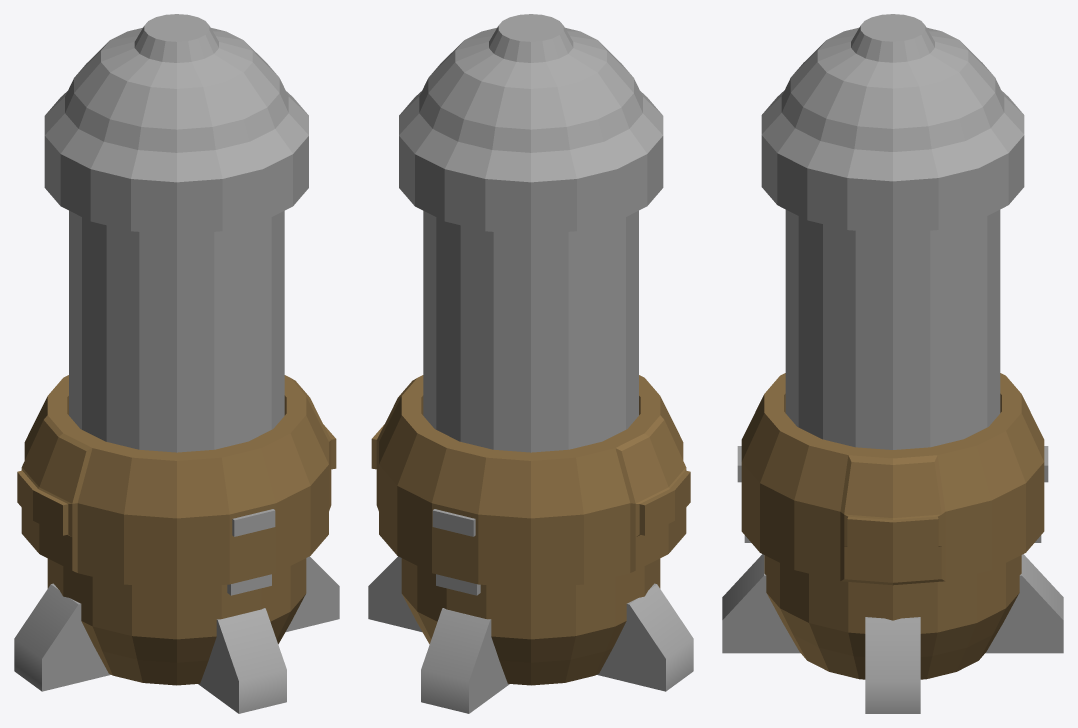
Rendered from pot3.fbx.
3 renders of one model, left to right at view 1: azimuth 30°, elevation 25°; view 2: azimuth 150°, elevation 25°; view 3: azimuth 270°, elevation 25°, orthographic.
Visible parts, largest first — view 1: polySurface7, polySurface4, polySurface5, polySurface12, polySurface8, polySurface10; view 2: polySurface7, polySurface4, polySurface5, polySurface12, polySurface9, polySurface11; view 3: polySurface7, polySurface4, polySurface5, polySurface12.
Part boxes in pixels (x1,y1,x2,y2): polySurface7: [17, 375, 336, 685]; polySurface4: [69, 210, 284, 452]; polySurface5: [44, 14, 308, 234]; polySurface12: [14, 556, 339, 713]; polySurface8: [232, 509, 275, 536]; polySurface10: [227, 574, 271, 595]; polySurface7: [371, 375, 690, 685]; polySurface4: [423, 210, 638, 452]; polySurface5: [399, 14, 663, 234]; polySurface12: [368, 556, 693, 713]; polySurface9: [432, 509, 475, 536]; polySurface11: [436, 574, 480, 595]; polySurface7: [741, 373, 1044, 679]; polySurface4: [785, 210, 1000, 449]; polySurface5: [761, 14, 1024, 233]; polySurface12: [722, 554, 1063, 713].
Bounding box in the file's own units: 0.7738 × 1.53 × 0.7738.
